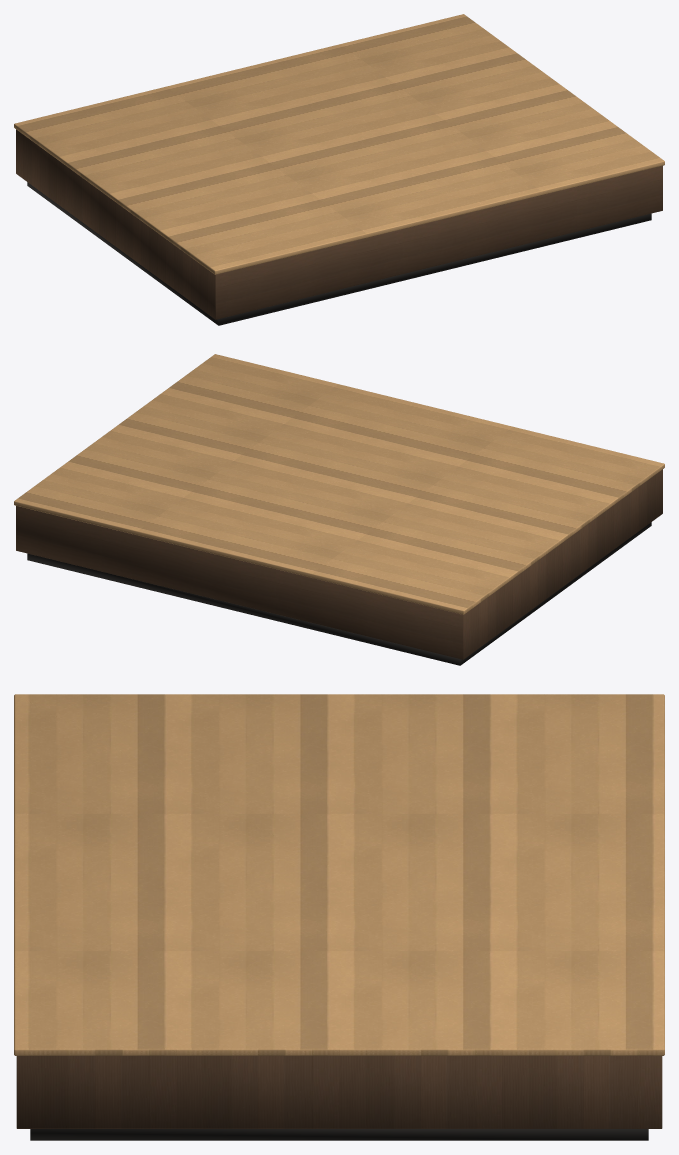
File: display-plinth-oak.lite.f24c9576.glb
The picture shows the model from 3 angles, top to bottom: view 1: azimuth 30°, elevation 25°; view 2: azimuth 150°, elevation 25°; view 3: azimuth 270°, elevation 25°; orthographic projection. The views are drawn at different scales.
Parts seen in each view (by area): view 1: plinth-top, plinth-body, plinth-kick; view 2: plinth-top, plinth-body, plinth-kick; view 3: plinth-top, plinth-body, plinth-kick.
Boxes of the visible parts, x1,y1,x2,y2 form: plinth-top: [14, 14, 664, 274]; plinth-body: [16, 129, 662, 319]; plinth-kick: [27, 182, 651, 325]; plinth-top: [14, 354, 664, 614]; plinth-body: [16, 469, 662, 659]; plinth-kick: [27, 522, 651, 665]; plinth-top: [14, 694, 664, 1055]; plinth-body: [16, 1056, 662, 1128]; plinth-kick: [30, 1129, 648, 1140].
Bounding box in the file's own units: 3.1 × 0.4 × 2.4.
Materials: 3 (2 with a texture image).
